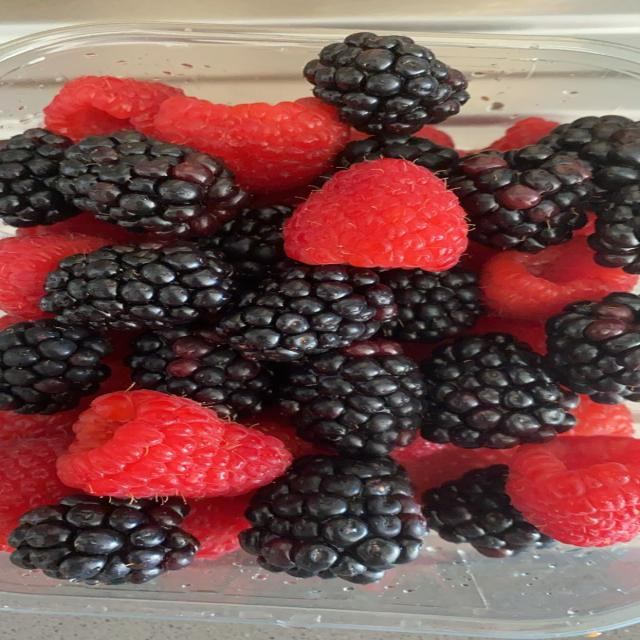raspberry: (58, 390, 291, 497), (240, 456, 425, 583), (55, 131, 248, 239), (284, 158, 467, 271), (155, 97, 349, 192), (421, 333, 578, 448), (217, 264, 396, 361), (9, 495, 199, 585), (41, 242, 233, 330), (304, 32, 469, 134), (279, 342, 424, 455), (449, 146, 592, 253), (507, 437, 639, 546), (126, 323, 273, 419), (480, 237, 637, 321), (423, 465, 553, 557), (0, 319, 111, 414), (547, 293, 639, 404), (0, 235, 109, 319), (44, 76, 183, 140), (0, 436, 72, 550), (0, 128, 79, 227), (540, 116, 639, 193), (382, 268, 483, 342), (202, 206, 292, 285), (392, 444, 517, 496), (181, 494, 251, 560), (589, 182, 639, 274), (335, 136, 458, 172), (17, 212, 144, 243), (245, 409, 323, 459), (466, 314, 546, 354), (563, 396, 634, 436), (0, 408, 80, 442), (487, 117, 558, 150), (391, 437, 447, 475), (252, 181, 317, 207), (459, 241, 501, 273), (413, 125, 455, 148), (400, 342, 440, 362), (575, 211, 596, 236), (0, 315, 22, 330)
